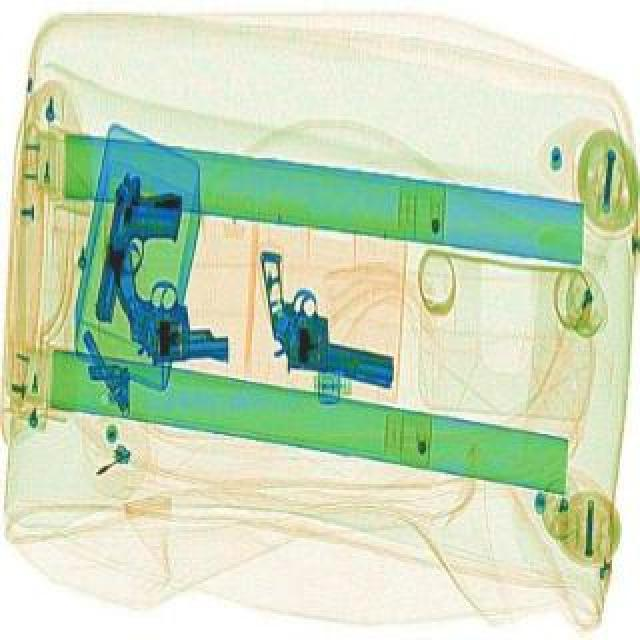gun: (234, 246, 414, 386), (90, 168, 190, 328), (106, 242, 230, 366)
